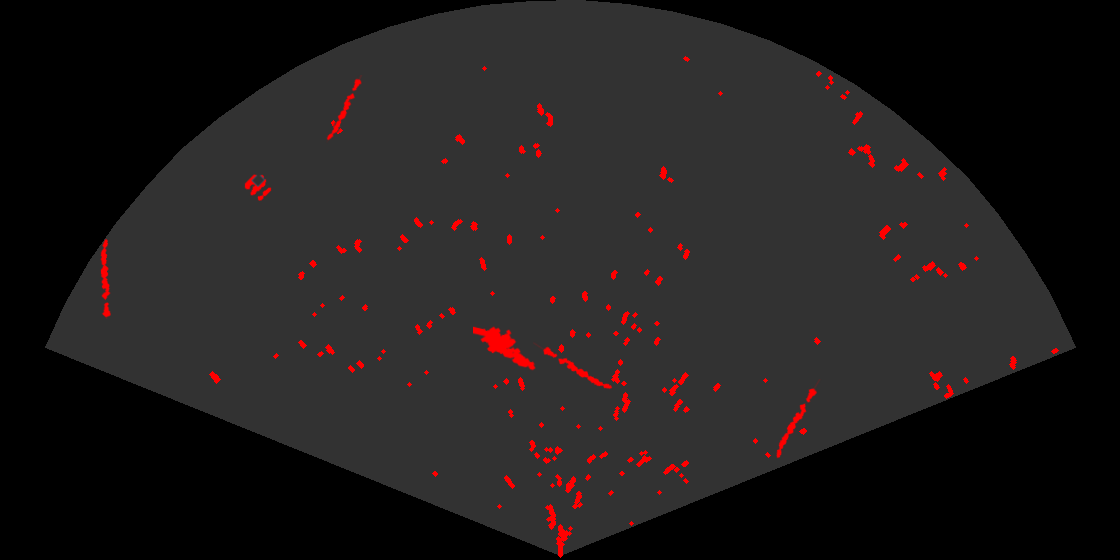ball: (243, 173, 273, 202)
chain: (533, 341, 614, 391), (775, 379, 822, 460), (325, 75, 364, 144), (99, 238, 112, 319)
frogman: (473, 325, 537, 372)
